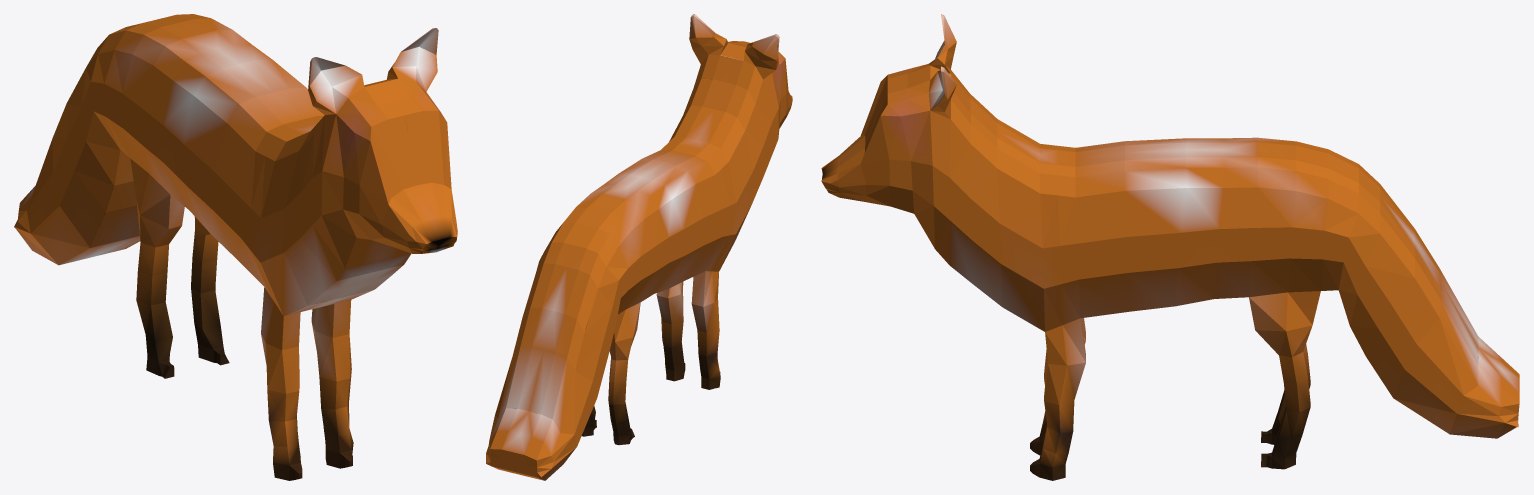
The model's file is zorro.fbx.
The picture shows the model from 3 angles, left to right: view 1: azimuth 30°, elevation 25°; view 2: azimuth 150°, elevation 25°; view 3: azimuth 270°, elevation 25°; orthographic projection. The views are drawn at different scales.
Parts seen in each view (by area): view 1: zorro; view 2: zorro; view 3: zorro.
Part boxes in pixels (<box>): zorro: <box>14,14,457,480</box>; zorro: <box>486,14,792,480</box>; zorro: <box>821,14,1519,480</box>.
Bounding box in the file's own units: 188 × 667 × 997.
1 material, 1 textured.
